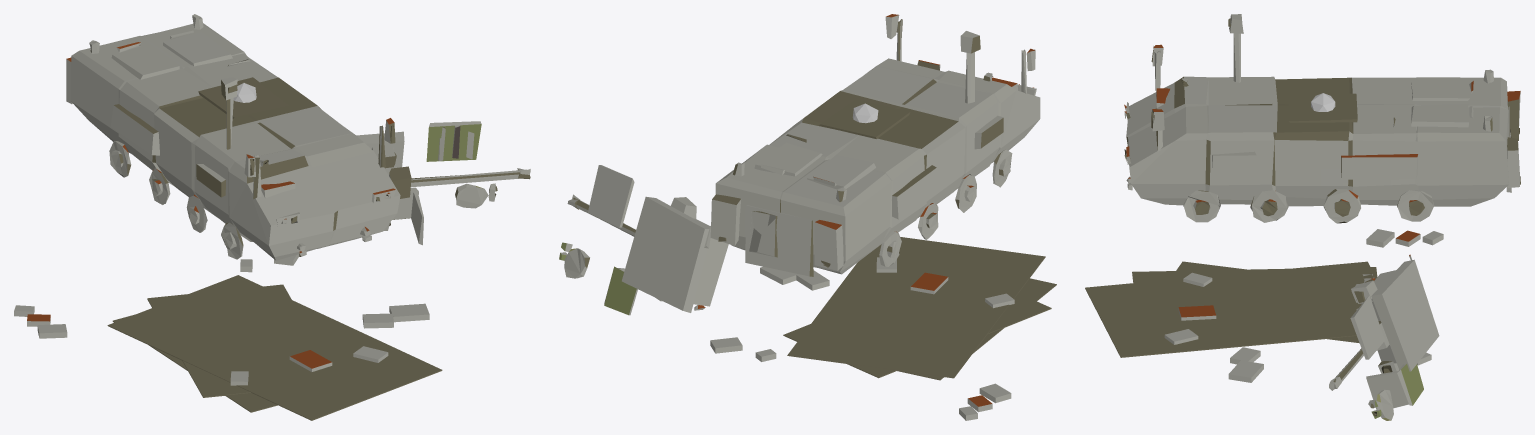
The model's file is SM_RestosDragon_v1_LOD0.fbx.
3 views of the same model, side by side, from view 1: azimuth 30°, elevation 25°; view 2: azimuth 150°, elevation 25°; view 3: azimuth 270°, elevation 25° (orthographic). The views are drawn at different scales.
Visible parts, largest first — view 1: SM_bloques.restos_dragon_v1_LOD0; view 2: SM_bloques.restos_dragon_v1_LOD0; view 3: SM_bloques.restos_dragon_v1_LOD0.
Part boxes in pixels (x1,y1,x2,y2): SM_bloques.restos_dragon_v1_LOD0: (14, 14, 530, 420); SM_bloques.restos_dragon_v1_LOD0: (559, 14, 1056, 420); SM_bloques.restos_dragon_v1_LOD0: (1085, 14, 1520, 420).
Bounding box in the file's own units: 10.88 × 6.33 × 9.18.
